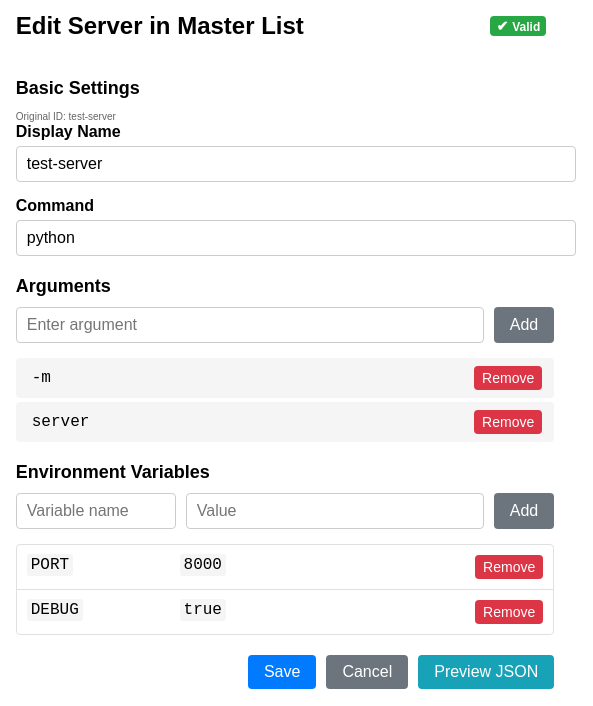
Test: MasterServerForm › handles removing environment variables
Expected: the text "PORT" is shown, [27,554,73,576]
Step 1. Click the button "Remove" in the row of "8000" → (509, 567), box [475,555,543,579]
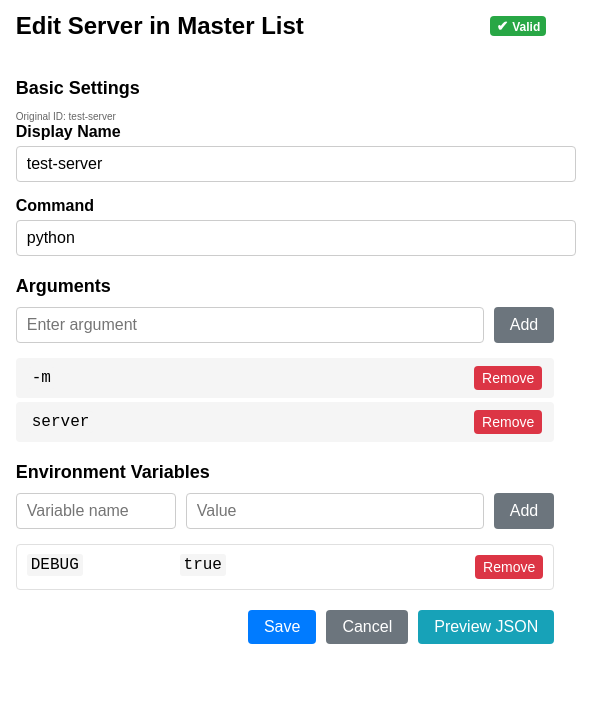
Expected: the text "PORT" is gone
